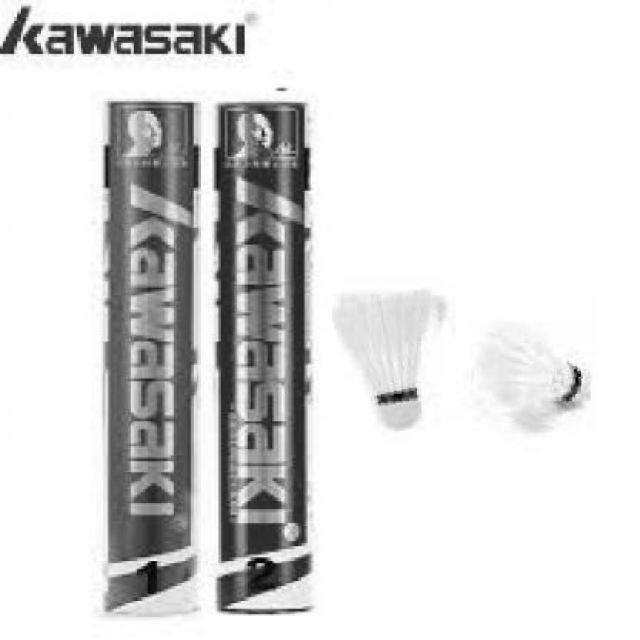Shuttlecock: (331, 293, 431, 432), (474, 320, 586, 414)
